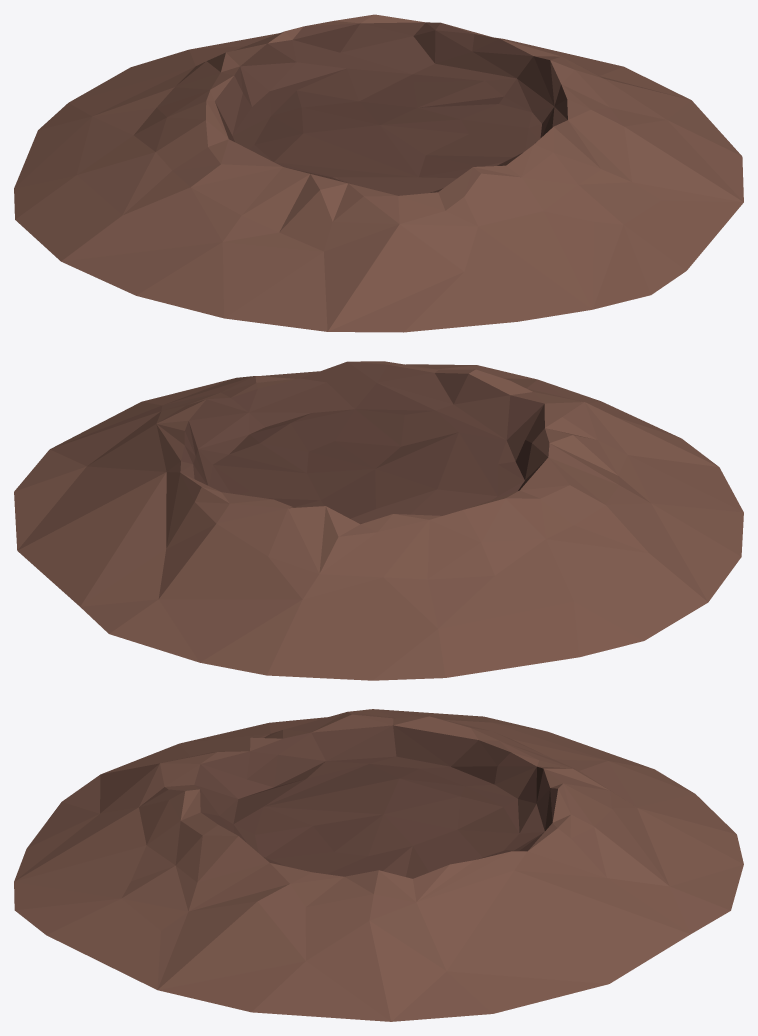
The model's file is crater_001.fbx.
The picture shows the model from 3 angles, top to bottom: view 1: azimuth 30°, elevation 25°; view 2: azimuth 150°, elevation 25°; view 3: azimuth 270°, elevation 25°; orthographic projection. The views are drawn at different scales.
Parts seen in each view (by area): view 1: crater_001; view 2: crater_001; view 3: crater_001.
Part boxes in pixels (box(x1,y1,x2,y2)): crater_001: box(14, 14, 743, 332); crater_001: box(14, 361, 743, 680); crater_001: box(14, 709, 743, 1021).
Bounding box in the file's own units: 3646 × 3635 × 472.
